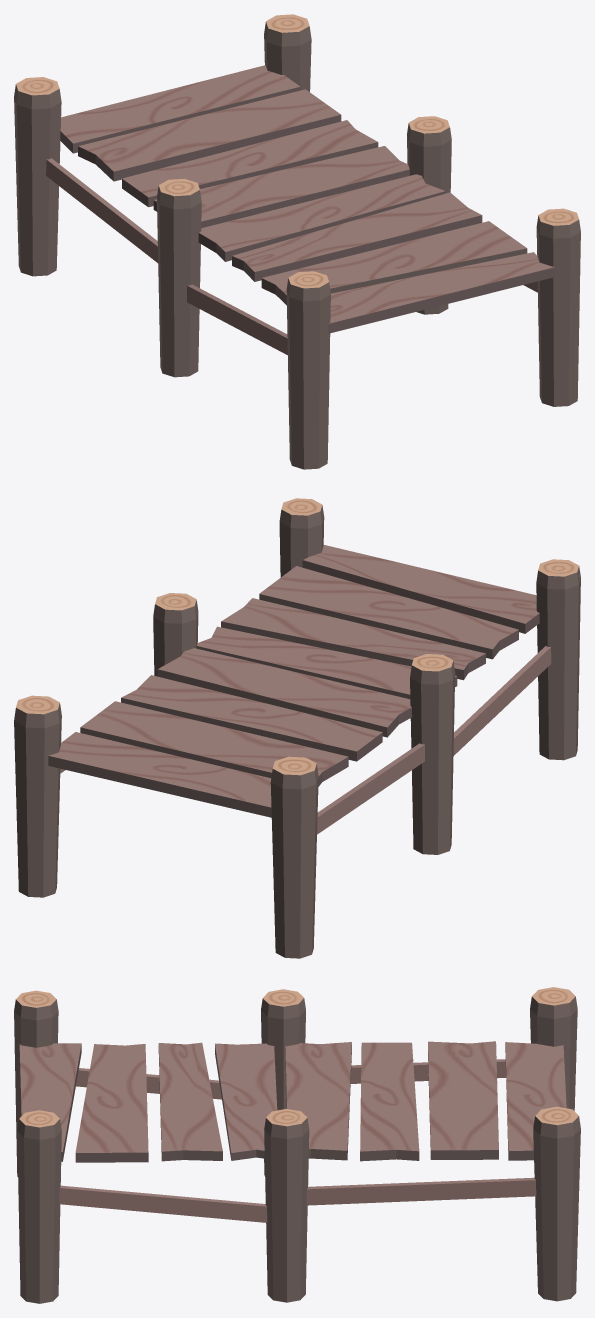
File: dock.fbx
3 renders of one model, top to bottom at view 1: azimuth 30°, elevation 25°; view 2: azimuth 150°, elevation 25°; view 3: azimuth 270°, elevation 25°, orthographic. The views are drawn at different scales.
Parts seen in each view (by area): view 1: dock; view 2: dock; view 3: dock.
Boxes of the visible parts, x1,y1,x2,y2 form: dock: (14,14,580,469); dock: (14,498,580,958); dock: (14,987,580,1303).
Size of the model in its own units: 279 by 163 by 472.
